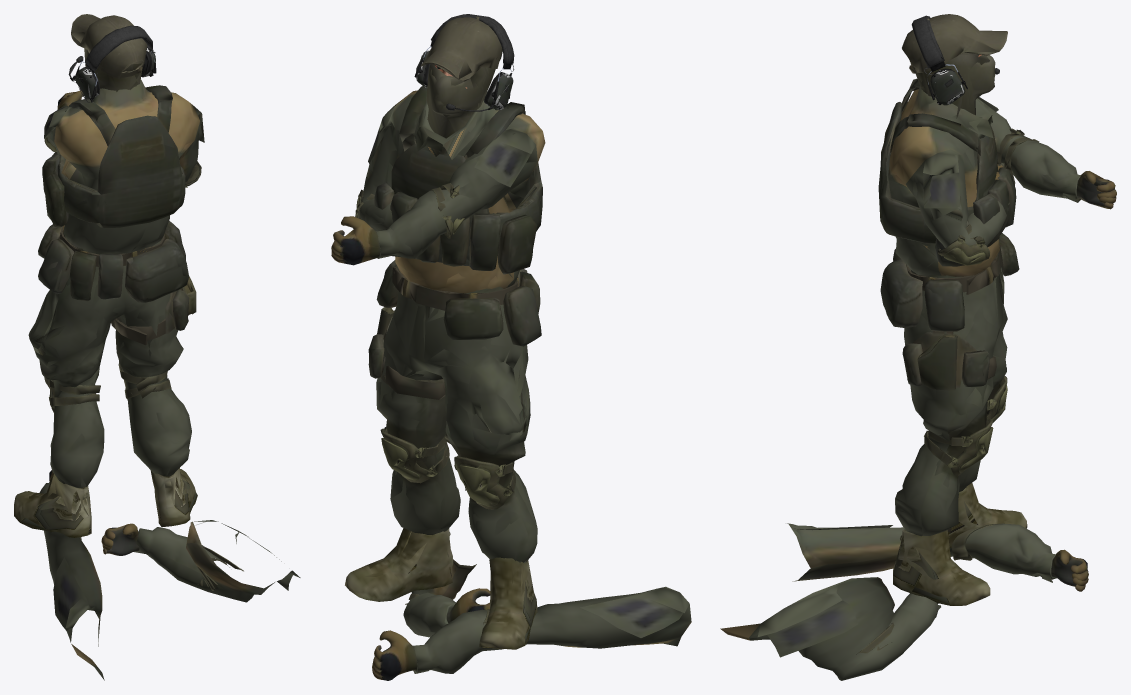
File: crew.glb
The picture shows the model from 3 angles, left to right: view 1: azimuth 30°, elevation 25°; view 2: azimuth 150°, elevation 25°; view 3: azimuth 270°, elevation 25°; orthographic projection. The views are drawn at different scales.
Visible parts, largest first — view 1: close, far, rightSleeve, leftSleeve; view 2: close, far, leftSleeve, rightSleeve; view 3: close, far, rightSleeve, leftSleeve.
Boxes of the visible parts, x1,y1,x2,y2 form: close: [14, 14, 204, 537]; far: [20, 14, 204, 535]; rightSleeve: [101, 520, 300, 602]; leftSleeve: [39, 470, 104, 680]; close: [331, 14, 545, 649]; far: [339, 19, 540, 644]; leftSleeve: [372, 586, 691, 680]; rightSleeve: [403, 559, 490, 637]; close: [878, 14, 1116, 605]; far: [880, 17, 1116, 605]; rightSleeve: [720, 577, 940, 680]; leftSleeve: [787, 523, 1088, 591].
Bounding box in the file's own units: 0.8119 × 2.04 × 1.17.
Materials: 1 (1 with a texture image).
